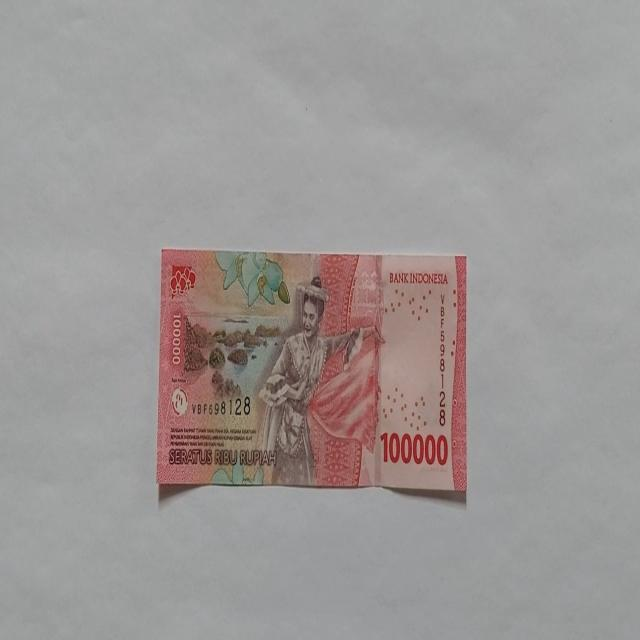seratus ribu rupiah: (156, 249, 468, 495), (255, 274, 372, 486)
